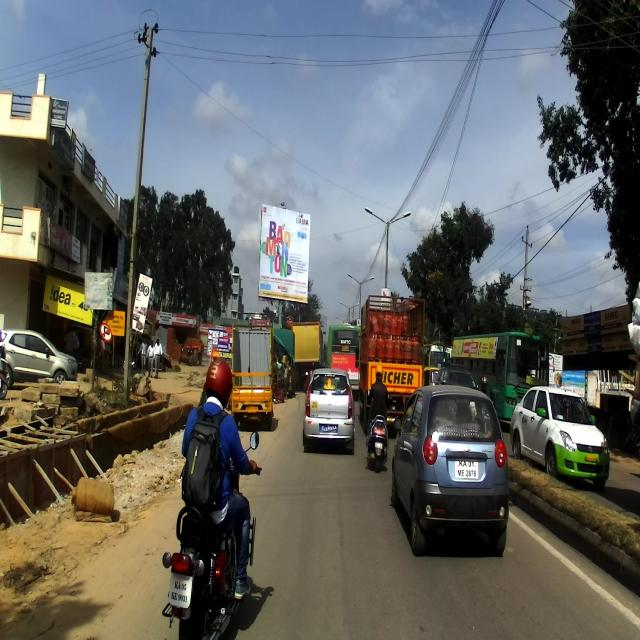car: (392, 384, 510, 553), (509, 384, 610, 489), (301, 368, 361, 454)
motorcycle: (162, 428, 262, 639)
scooter: (365, 389, 392, 468)
truck: (359, 294, 425, 431)
